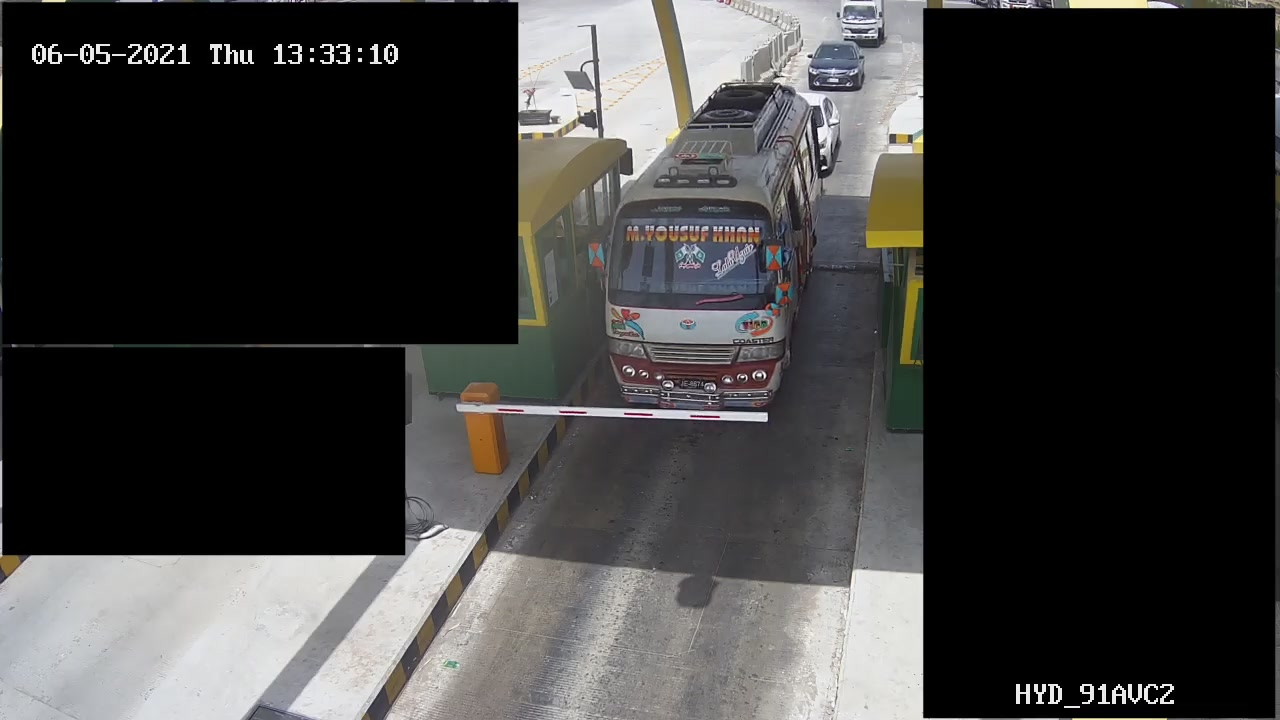F4: (595, 69, 833, 432)
